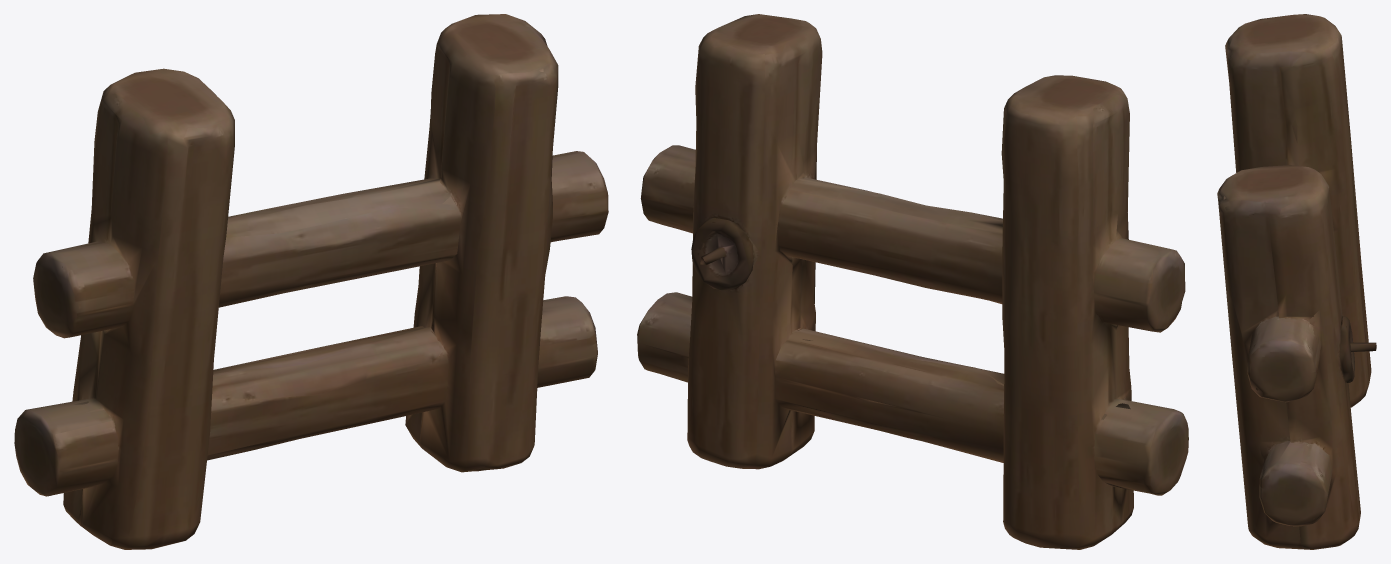
Rendered from fence.glb.
3 views of the same model, side by side, from view 1: azimuth 30°, elevation 25°; view 2: azimuth 150°, elevation 25°; view 3: azimuth 270°, elevation 25° (orthographic). The views are drawn at different scales.
Size of the model in its own units: 1 by 0.7717 by 0.2983.
1 material, 1 textured.
